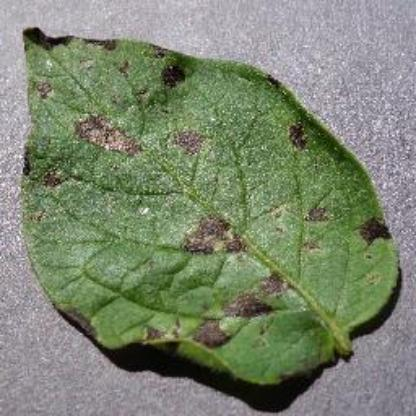Early-Blight: (13, 18, 407, 394)
